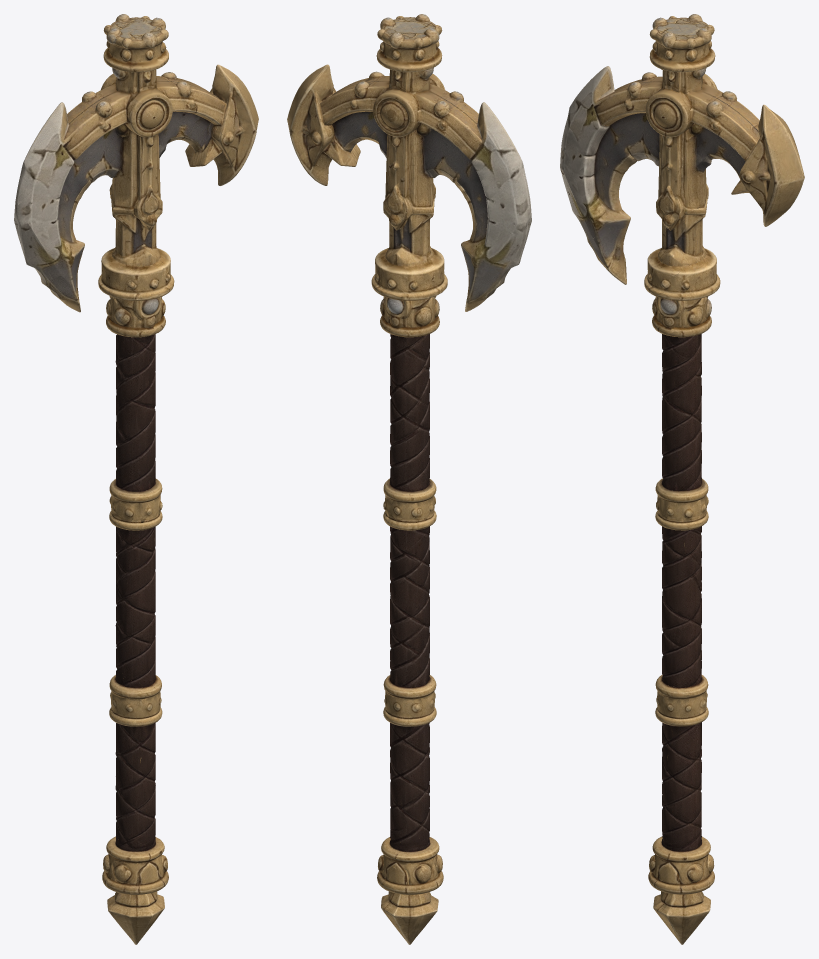
File: equip_mara_hammer.glb
3 renders of one model, left to right at view 1: azimuth 30°, elevation 25°; view 2: azimuth 150°, elevation 25°; view 3: azimuth 330°, elevation 25°, orthographic.
Visible parts, largest first — view 1: Mesh_0; view 2: Mesh_0; view 3: Mesh_0.
Boxes of the visible parts, x1,y1,x2,y2 form: Mesh_0: (14,14,258,944); Mesh_0: (287,14,531,944); Mesh_0: (560,14,804,944).
Size of the model in its own units: 0.524 by 1.9 by 0.1439.
1 material, 1 textured.
